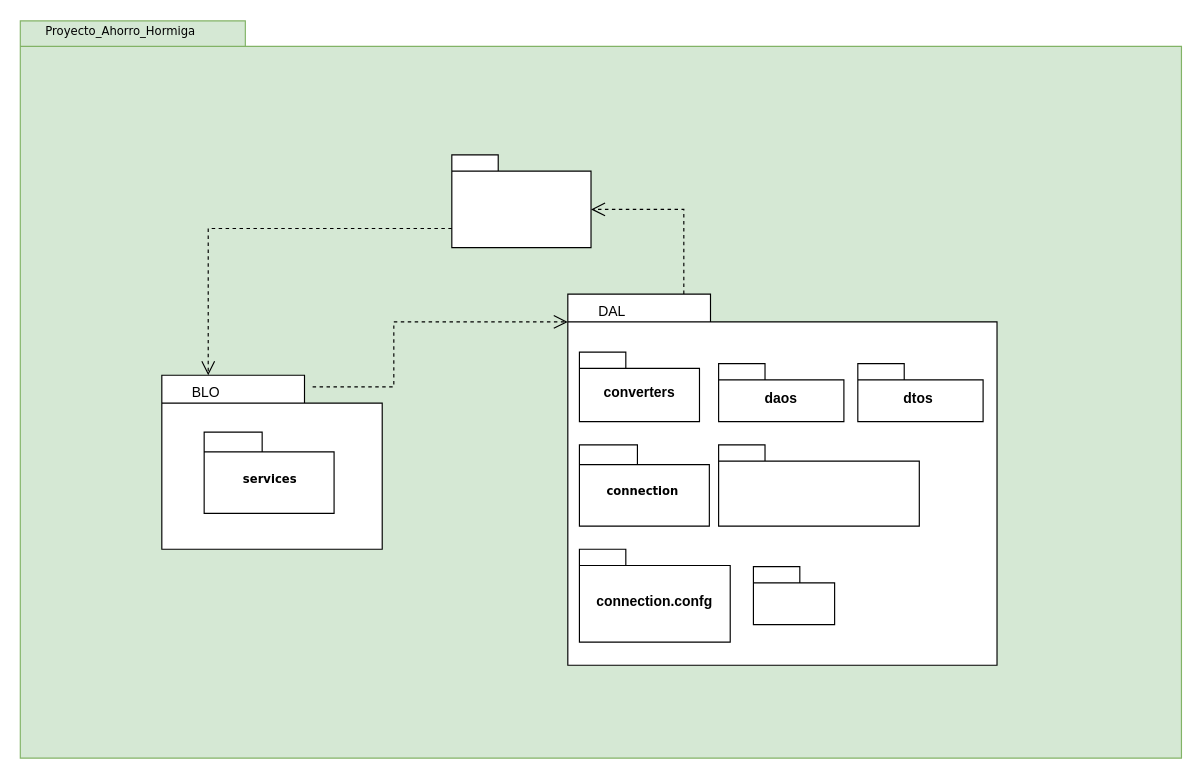
Some shapes in this 1202 by 778 pixel diagram are drawn without their labels. Here are the shapes that lost their labels. From the top down, the box of each, then its label:
(451, 154, 591, 248): App
(717, 444, 919, 526): connection.PostgreSQL
(752, 566, 835, 625): entities
